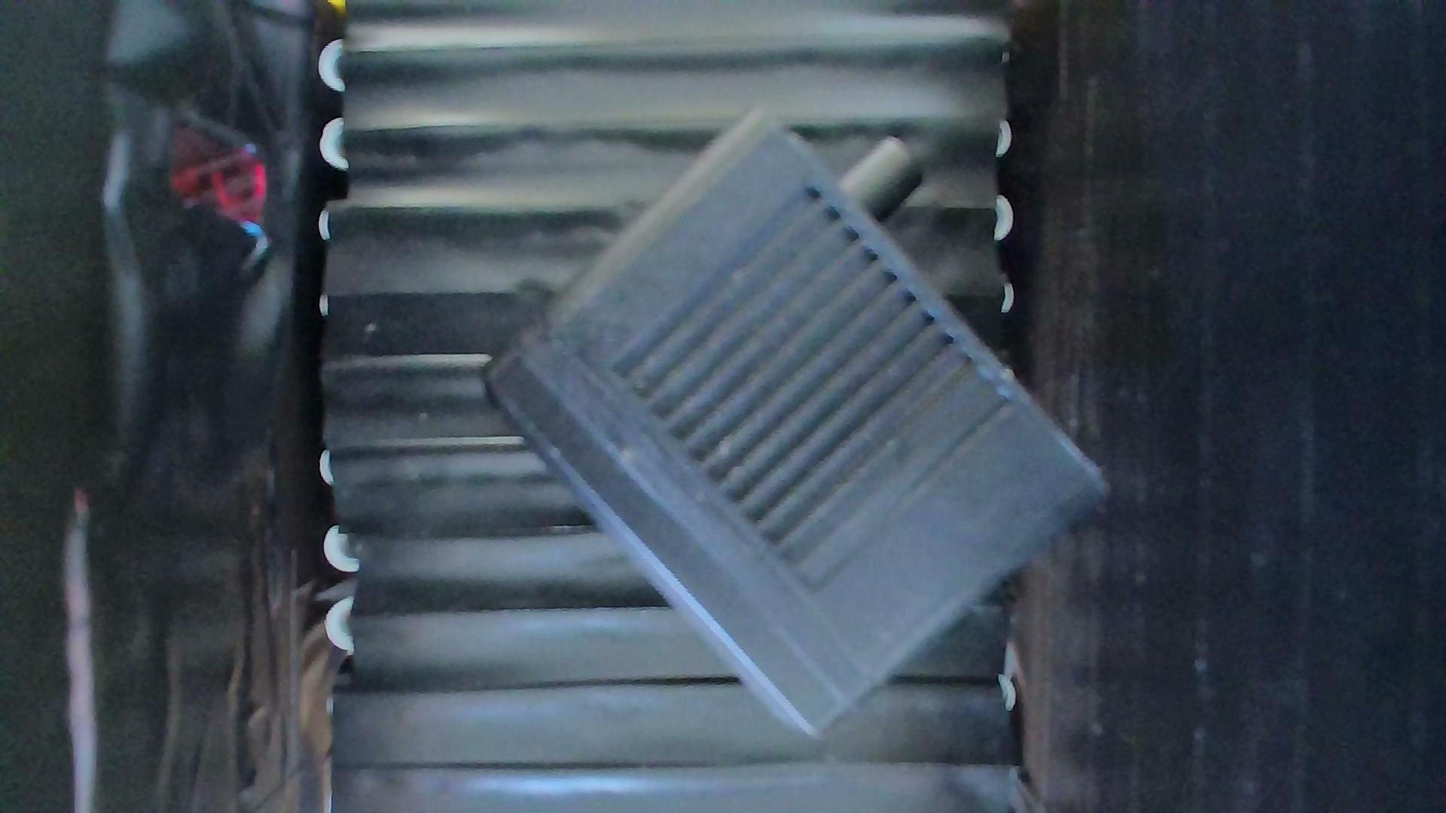motor: (477, 108, 1113, 741)
